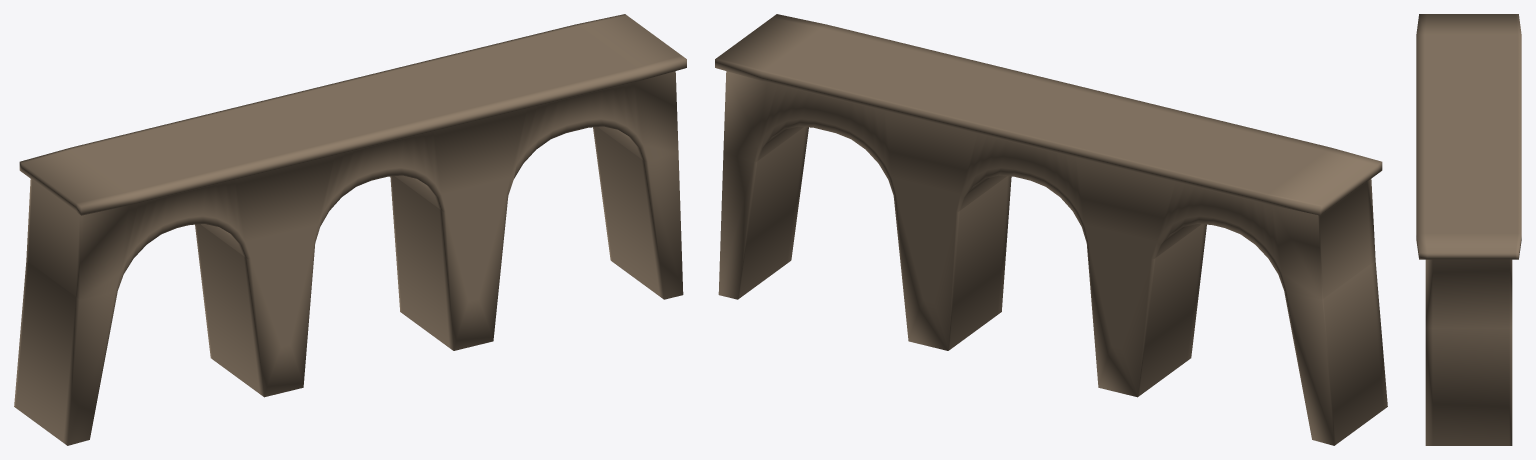
Rendered from buried_arch.fbx.
3 views of the same model, side by side, from view 1: azimuth 30°, elevation 25°; view 2: azimuth 150°, elevation 25°; view 3: azimuth 270°, elevation 25° (orthographic). The views are drawn at different scales.
Parts seen in each view (by area): view 1: buried_archs; view 2: buried_archs; view 3: buried_archs.
Boxes of the visible parts, <box> form: buried_archs: <box>14,14,686,445</box>; buried_archs: <box>715,14,1387,445</box>; buried_archs: <box>1416,14,1521,445</box>.
Size of the model in its own units: 108 by 40.21 by 19.8.
